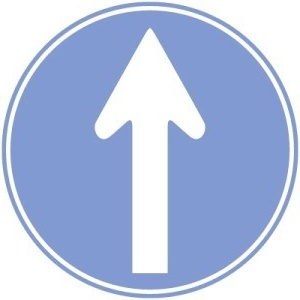Direction_sign: (4, 2, 294, 294)
